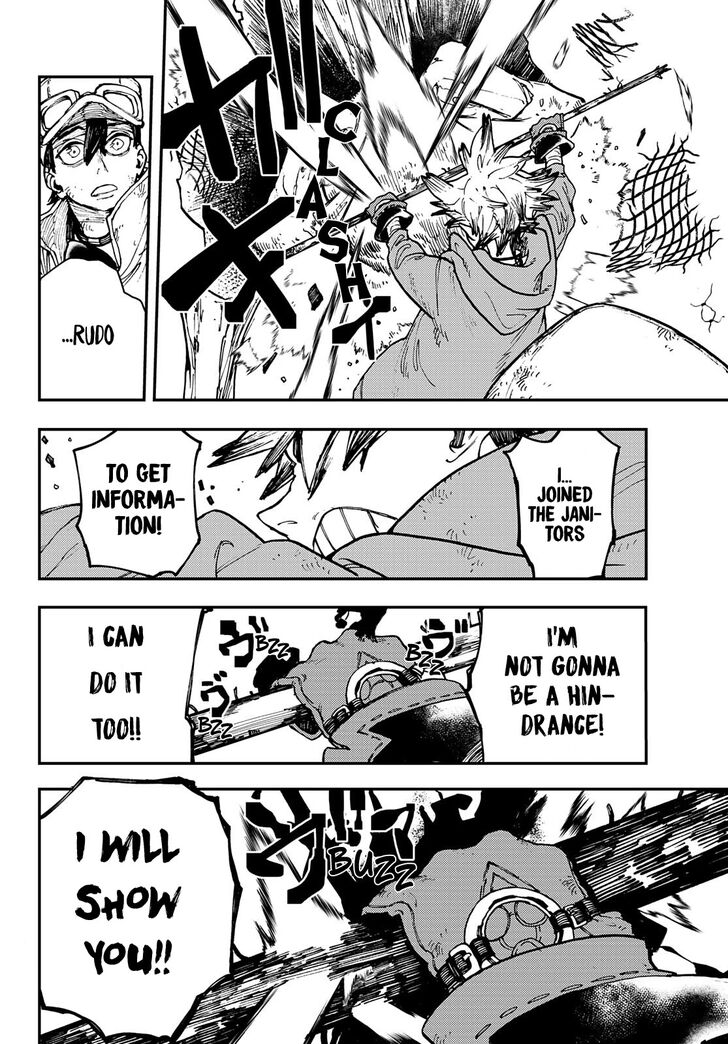bubble: (39, 778, 239, 1040), (466, 606, 646, 764), (39, 607, 205, 764), (74, 429, 200, 578), (504, 429, 619, 579), (39, 258, 146, 401)
